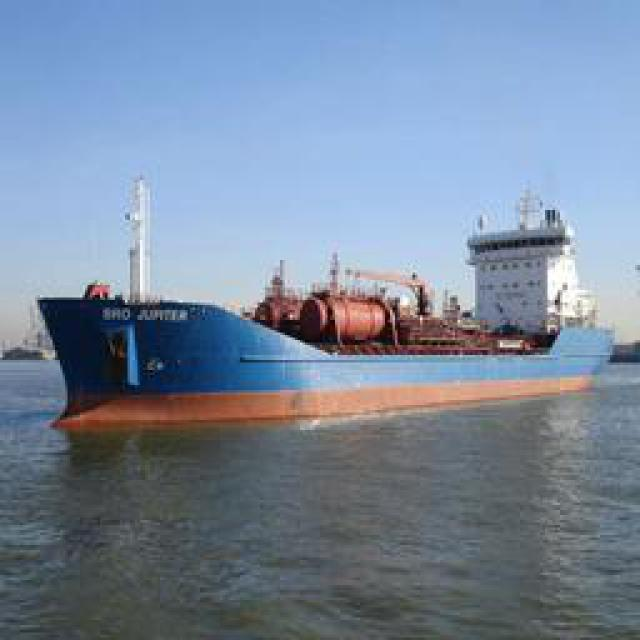Ship: (40, 287, 603, 435)
